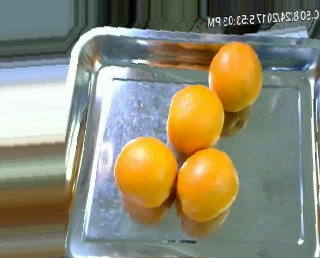Orange: (176, 147, 239, 221), (115, 136, 177, 208), (166, 82, 225, 155), (207, 40, 263, 112)
